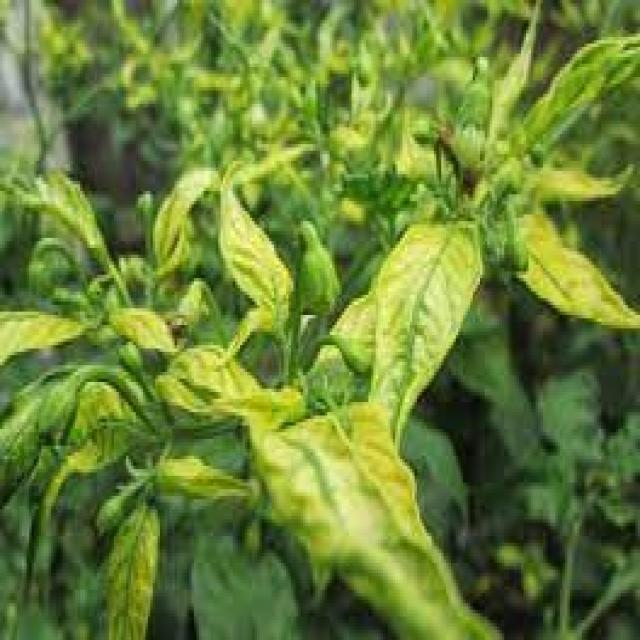Rust: (7, 117, 502, 640), (324, 0, 620, 359), (53, 0, 346, 171)
